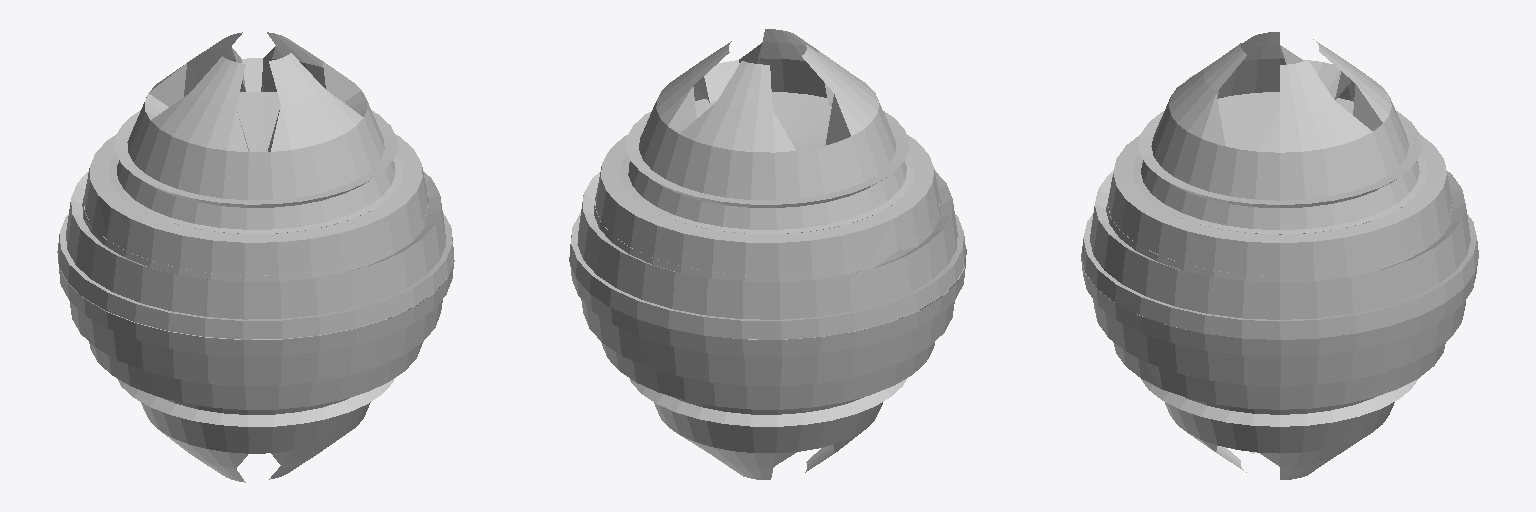
Rendered from Core.Render.obj.
3 renders of one model, left to right at view 1: azimuth 30°, elevation 25°; view 2: azimuth 150°, elevation 25°; view 3: azimuth 270°, elevation 25°, orthographic.
Parts seen in each view (by area): view 1: Figure_1; view 2: Figure_1; view 3: Figure_1.
Part boxes in pixels (x1,y1,x2,y2): Figure_1: (57,32,454,482); Figure_1: (569,29,966,479); Figure_1: (1081,32,1478,479).
Bounding box in the file's own units: 1.98 × 2.31 × 1.98.